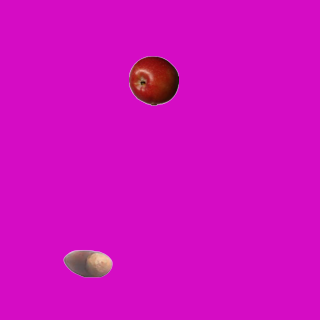Apple Braeburn: (128, 55, 178, 105)
Hazelnut: (62, 238, 112, 288)
